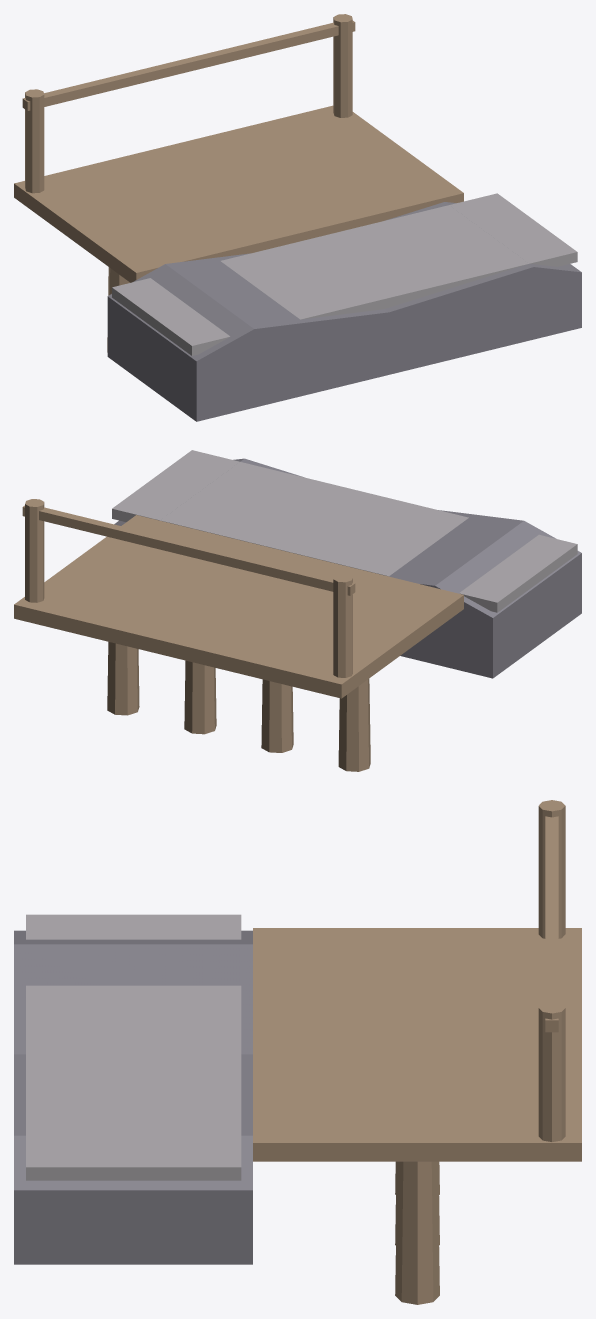
File: mythic-underworld-and-olympus-styx-jetty-e2c29aba__21351.glb
The picture shows the model from 3 angles, top to bottom: view 1: azimuth 30°, elevation 25°; view 2: azimuth 150°, elevation 25°; view 3: azimuth 270°, elevation 25°; orthographic projection. The views are drawn at different scales.
Parts seen in each view (by area): view 1: styx-jetty; view 2: styx-jetty; view 3: styx-jetty.
Boxes of the visible parts, bbox=[...] form: styx-jetty: bbox=[14, 14, 581, 421]; styx-jetty: bbox=[14, 450, 581, 771]; styx-jetty: bbox=[14, 800, 581, 1304].
Bounding box in the file's own units: 4 × 2.31 × 3.8.
